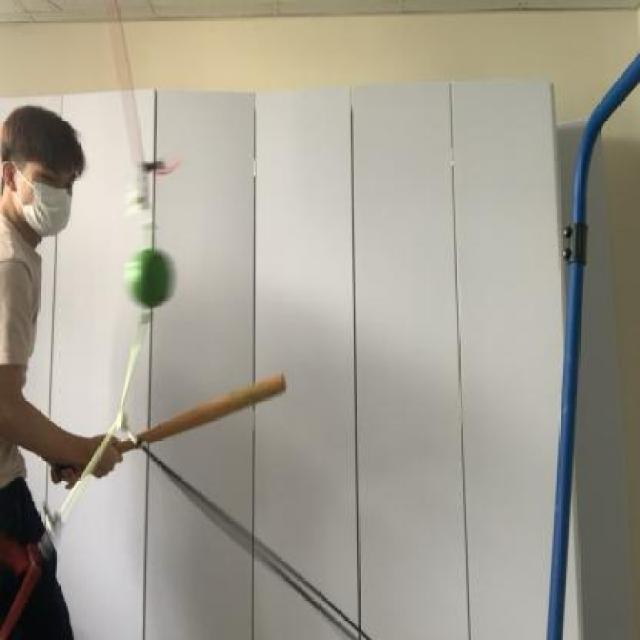baseball: (122, 247, 182, 316)
